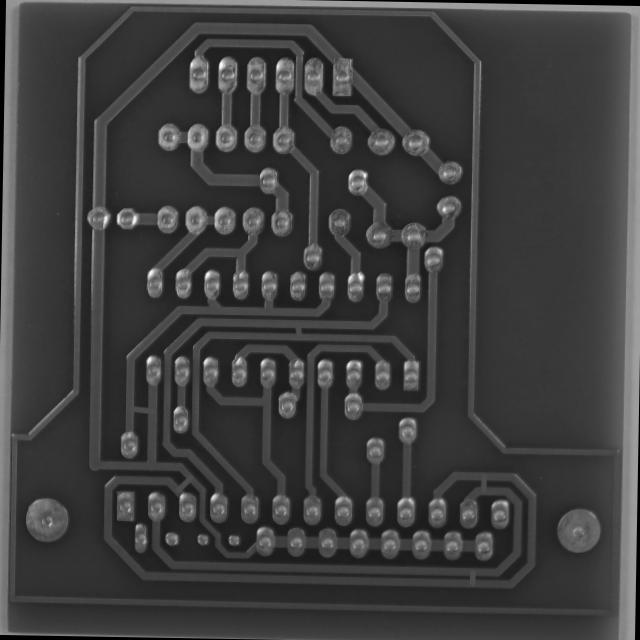short: (119, 396, 159, 424), (166, 470, 197, 497), (471, 467, 493, 498), (287, 316, 308, 341), (462, 564, 481, 589)
